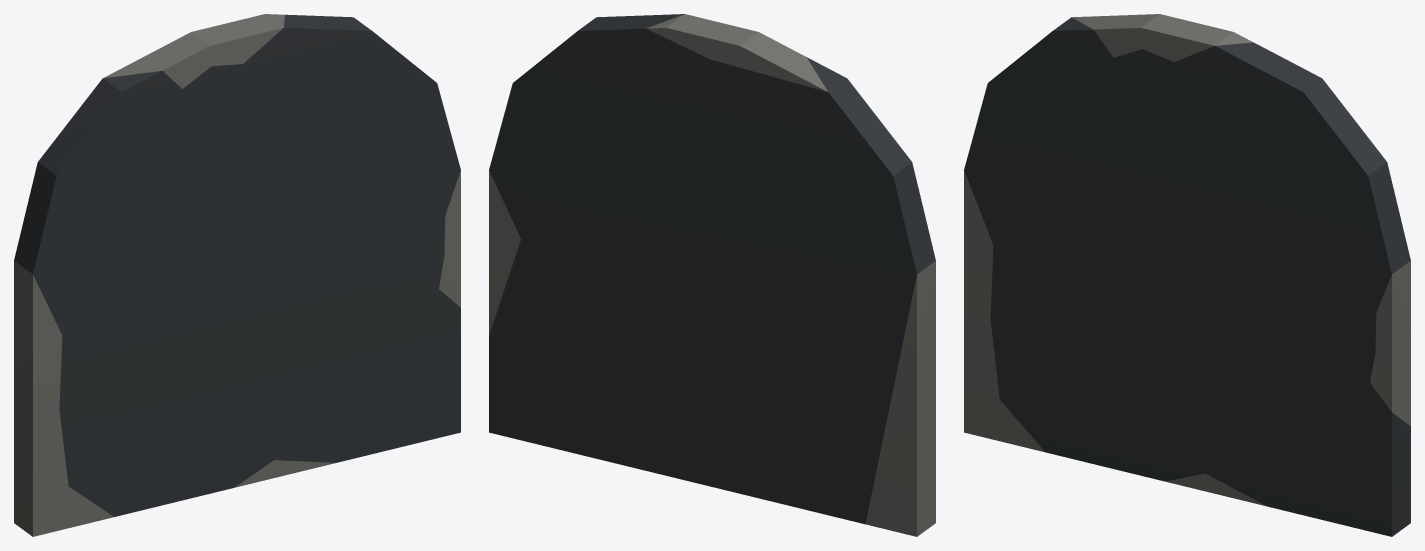
Rendered from Mailbox_04.fbx.
The picture shows the model from 3 angles, left to right: view 1: azimuth 30°, elevation 25°; view 2: azimuth 150°, elevation 25°; view 3: azimuth 330°, elevation 25°; orthographic projection.
Parts seen in each view (by area): view 1: Mailbox_04; view 2: Mailbox_04; view 3: Mailbox_04.
Boxes of the visible parts, <box> form: Mailbox_04: <box>14,14,460,536</box>; Mailbox_04: <box>489,14,935,536</box>; Mailbox_04: <box>964,14,1410,536</box>.
Size of the model in its own units: 0.2398 by 0.2398 by 0.0184.
